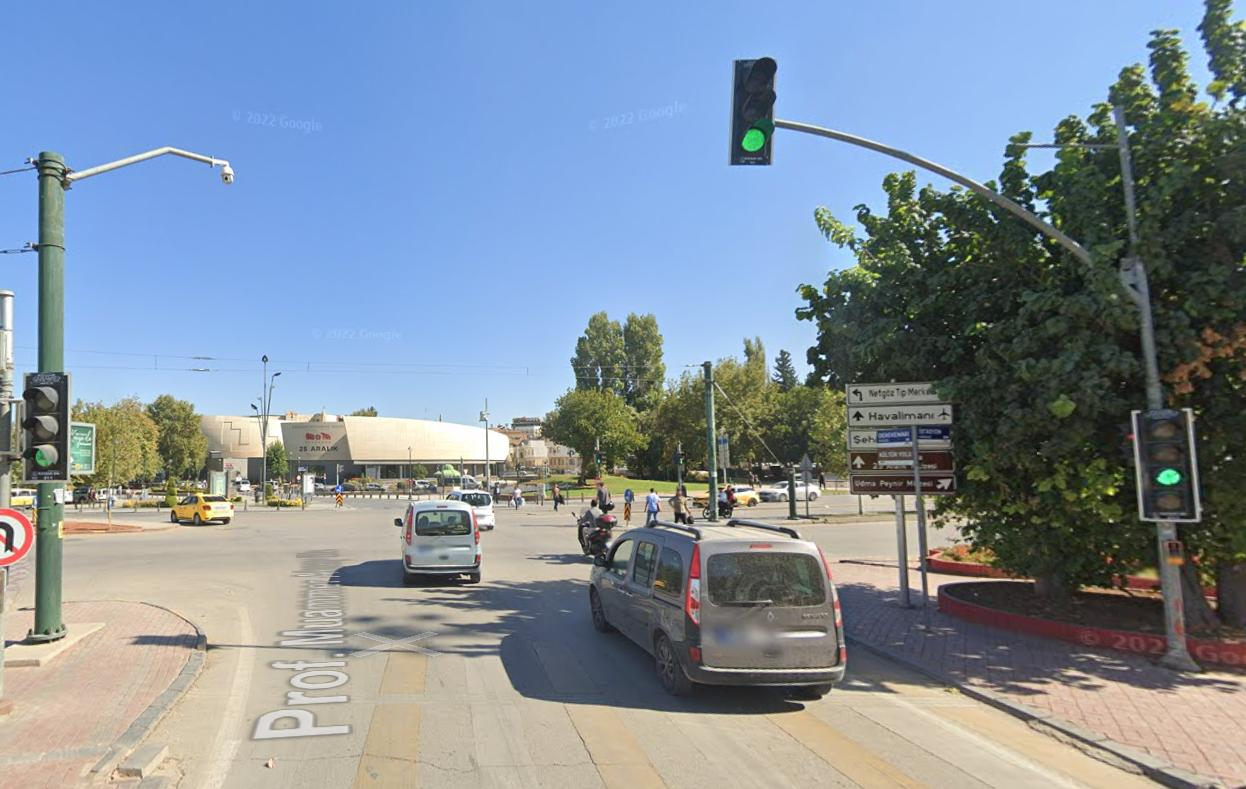greenlight: (1139, 409, 1189, 519), (21, 371, 67, 481), (734, 59, 774, 163)
